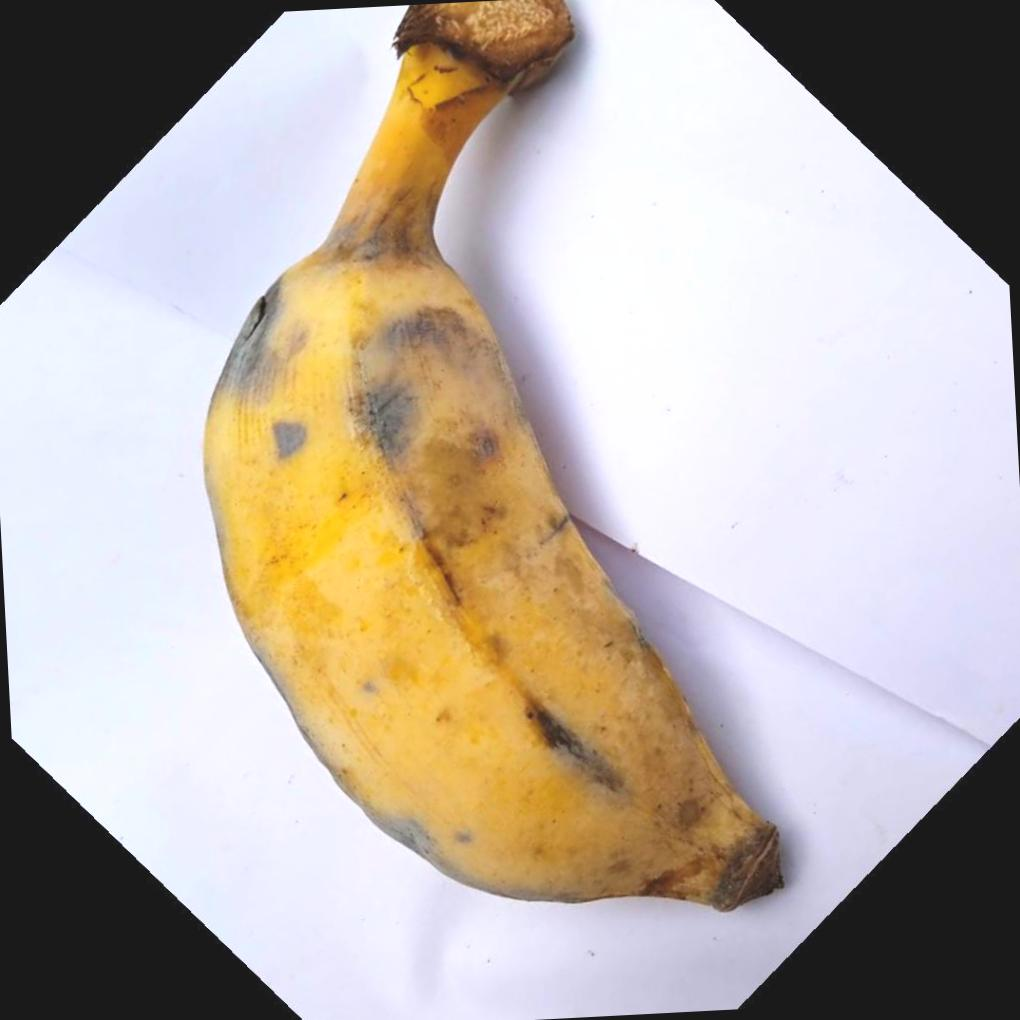Banana Ripe: (175, 22, 803, 967)
